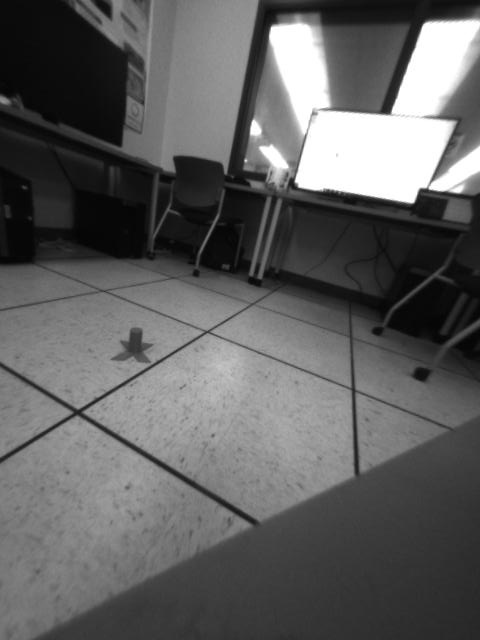X: (111, 328, 153, 365)
